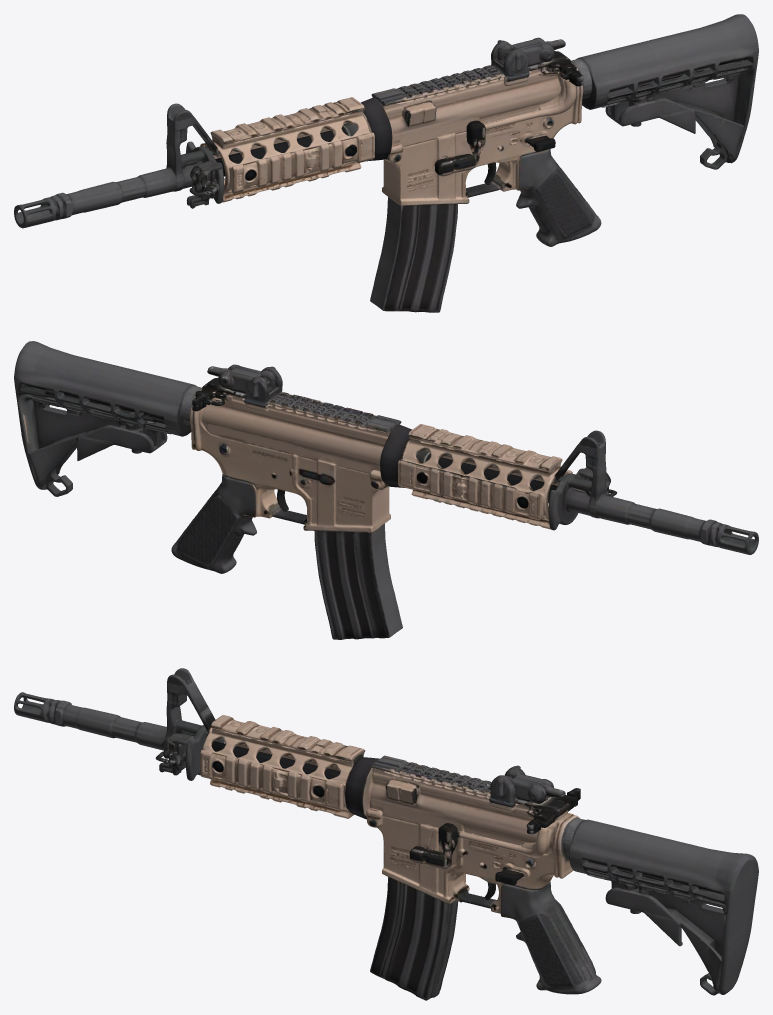
3 views of the same model, one above another, from view 1: azimuth 30°, elevation 25°; view 2: azimuth 150°, elevation 25°; view 3: azimuth 330°, elevation 25° (orthographic).
Parts seen in each view (by area): view 1: assault rifle 3d model; view 2: assault rifle 3d model; view 3: assault rifle 3d model.
Boxes of the visible parts, x1,y1,x2,y2 form: assault rifle 3d model: (14,14,758,312); assault rifle 3d model: (14,341,758,639); assault rifle 3d model: (14,668,758,1000).
Size of the model in its own units: 0.9811 by 0.3383 by 0.1158.
Materials: 1 (1 with a texture image).
